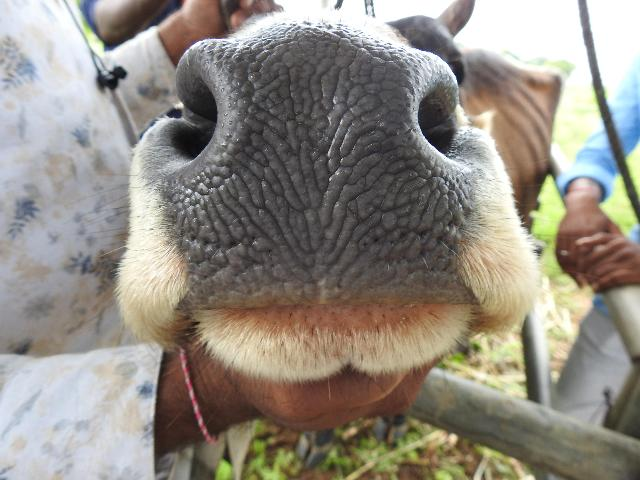Muzzle: (215, 40, 419, 280)
